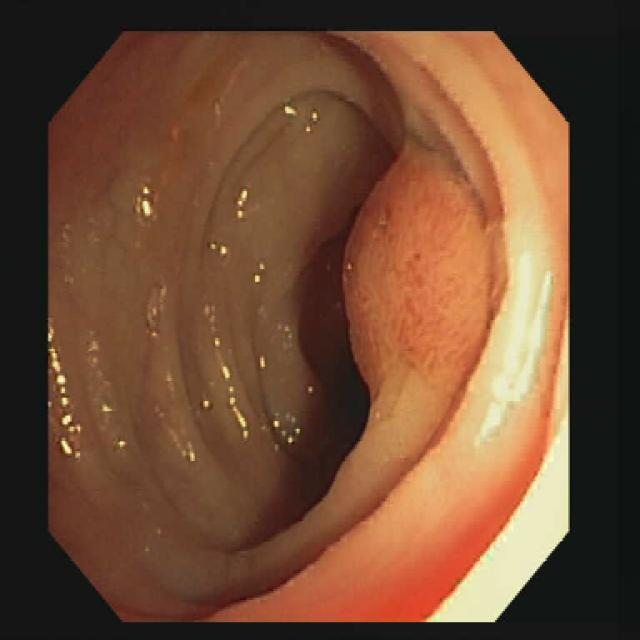tumor: (345, 147, 505, 398)
